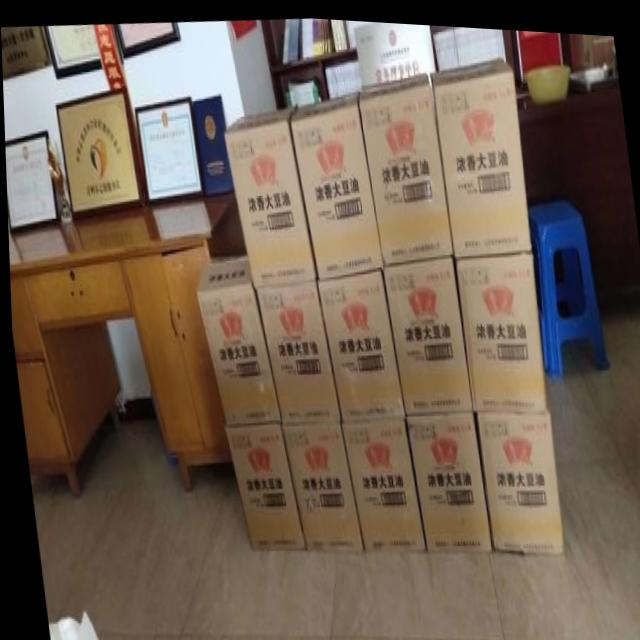box: (430, 49, 531, 251), (357, 67, 452, 264), (288, 85, 382, 275), (223, 103, 316, 284), (453, 245, 545, 404), (380, 251, 470, 409), (195, 250, 278, 421), (314, 264, 402, 416), (470, 403, 560, 546), (402, 402, 487, 547), (252, 275, 337, 418), (336, 413, 421, 548), (277, 416, 360, 546), (221, 421, 301, 548)
